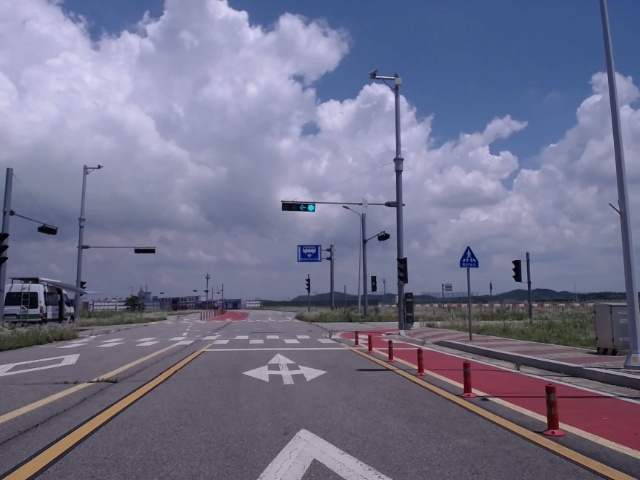all_green_4: (282, 202, 318, 213)
